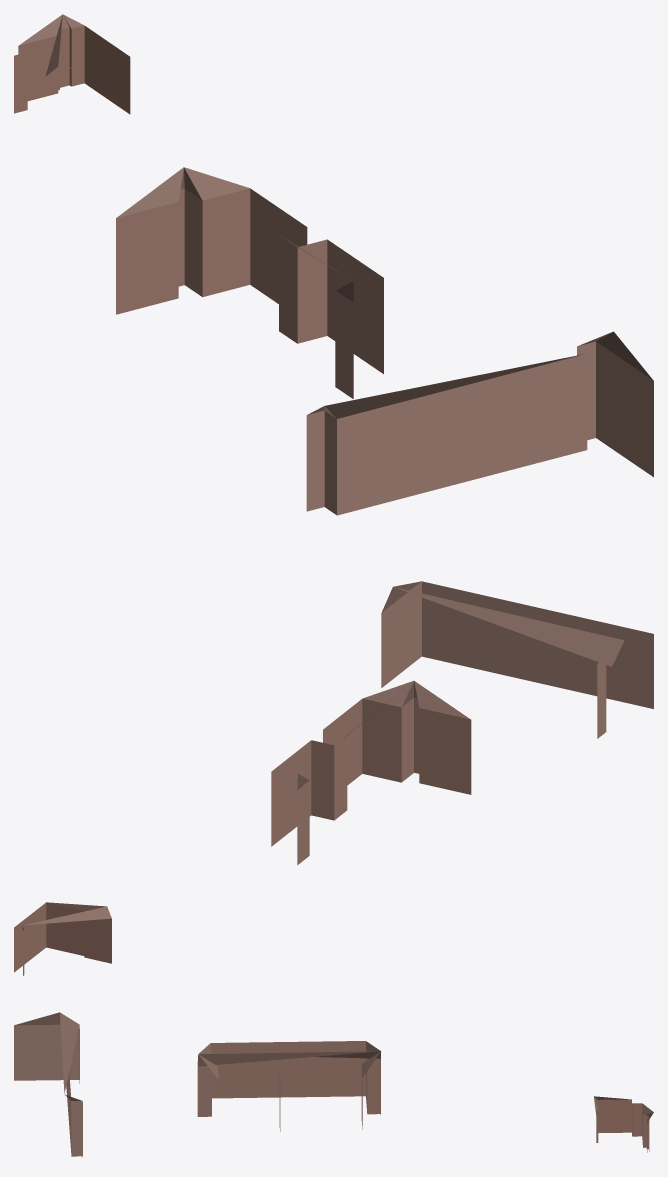
Rendered from c_1643_17836_buildings_residential.glb.
3 renders of one model, top to bottom at view 1: azimuth 30°, elevation 25°; view 2: azimuth 150°, elevation 25°; view 3: azimuth 270°, elevation 25°, orthographic. The views are drawn at different scales.
Visible parts, largest first — view 1: geometry_0; view 2: geometry_0; view 3: geometry_0.
Boxes of the visible parts, x1,y1,x2,y2 form: geometry_0: (14,14,653,515); geometry_0: (14,581,653,975); geometry_0: (14,1012,653,1157).
Bounding box in the file's own units: 48.05 × 18.36 × 157.
